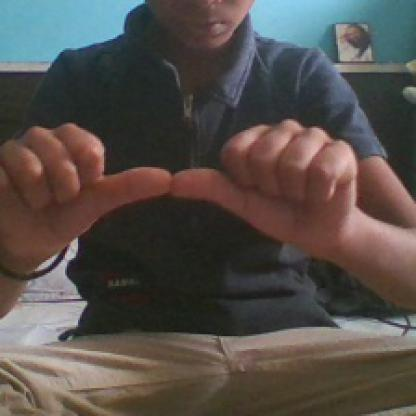A: (0, 113, 351, 254)
